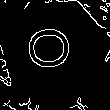O_E: (29, 30, 82, 76)
